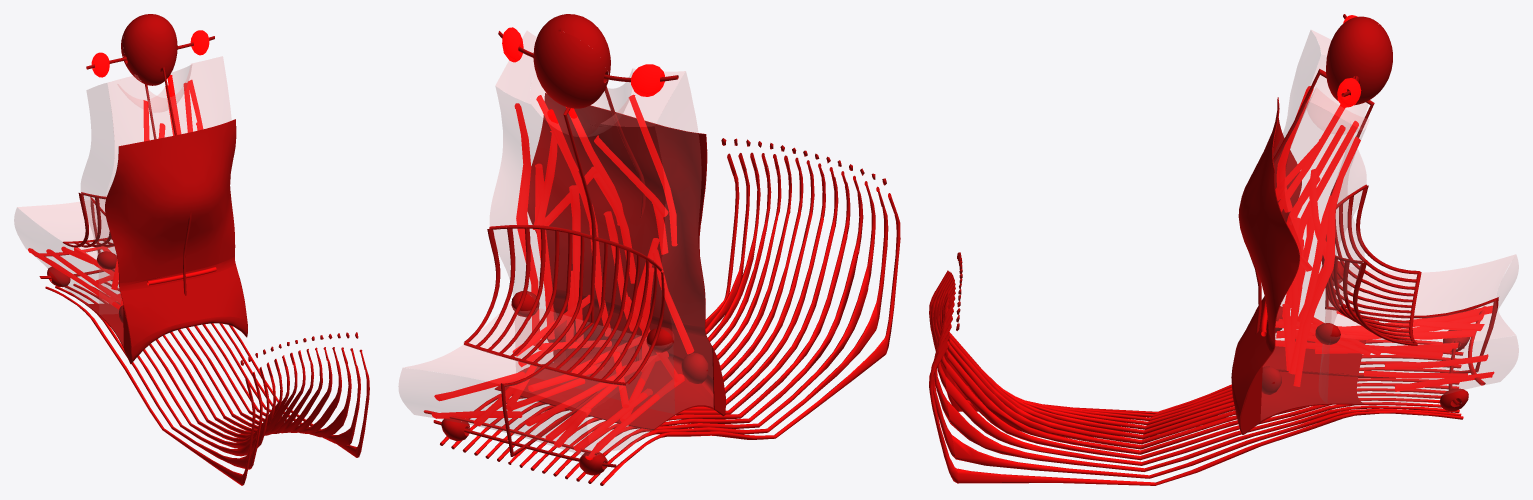
Rendered from DSE-red-v7.glb.
3 views of the same model, side by side, from view 1: azimuth 30°, elevation 25°; view 2: azimuth 150°, elevation 25°; view 3: azimuth 270°, elevation 25° (orthographic). The views are drawn at different scales.
Parts seen in each view (by area): view 1: Merged Objects 3, Merged Objects 7, Merged Objects 4, Merged Objects 5, Merged Objects 6; view 2: Merged Objects 7, Merged Objects 3, Merged Objects 4, Merged Objects 6, Merged Objects 5; view 3: Merged Objects 7, Merged Objects 4, Merged Objects 6, Merged Objects 3, Merged Objects 5.
Part boxes in pixels (x1=…): Merged Objects 3: x1=39, y1=36, x2=358, y2=365; Merged Objects 7: x1=14, y1=56, x2=231, y2=345; Merged Objects 4: x1=33, y1=246, x2=369, y2=485; Merged Objects 5: x1=47, y1=14, x2=191, y2=323; Merged Objects 6: x1=28, y1=30, x2=209, y2=309; Merged Objects 7: x1=398, y1=31, x2=713, y2=457; Merged Objects 3: x1=433, y1=31, x2=886, y2=467; Merged Objects 4: x1=423, y1=152, x2=900, y2=485; Merged Objects 6: x1=431, y1=27, x2=694, y2=460; Merged Objects 5: x1=441, y1=14, x2=708, y2=475; Merged Objects 7: x1=1261, y1=30, x2=1518, y2=420; Merged Objects 4: x1=929, y1=270, x2=1486, y2=485; Merged Objects 6: x1=1275, y1=15, x2=1498, y2=391; Merged Objects 3: x1=956, y1=14, x2=1460, y2=434; Merged Objects 5: x1=1249, y1=16, x2=1498, y2=411.
Bounding box in the file's own units: 0.6005 × 1.45 × 1.79.
